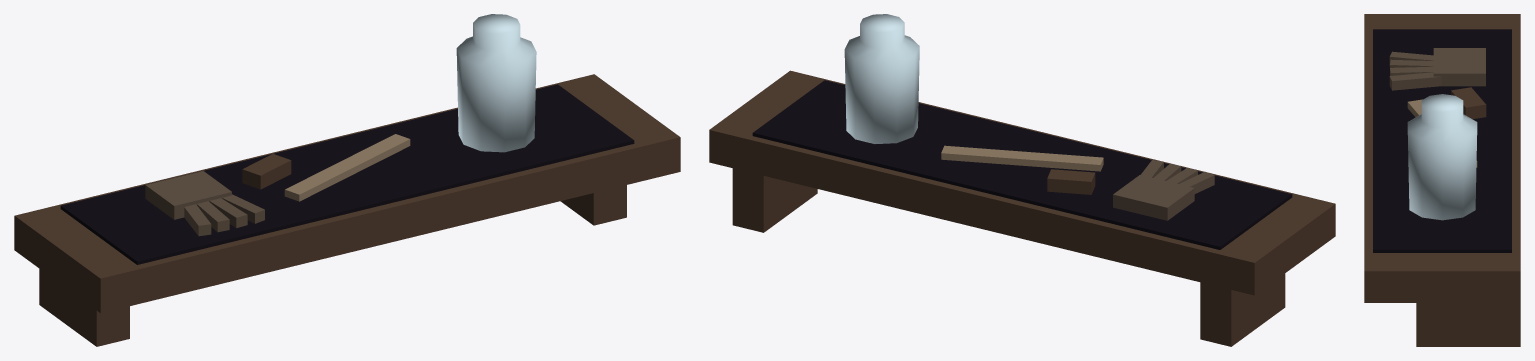
File: relics.glb
3 views of the same model, side by side, from view 1: azimuth 30°, elevation 25°; view 2: azimuth 150°, elevation 25°; view 3: azimuth 270°, elevation 25° (orthographic). The views are drawn at different scales.
Parts seen in each view (by area): view 1: relics; view 2: relics; view 3: relics.
Boxes of the visible parts, x1,y1,x2,y2 form: relics: (14, 14, 680, 346); relics: (709, 14, 1335, 346); relics: (1364, 14, 1520, 346).
Size of the model in its own units: 0.7 by 0.244 by 0.18.
